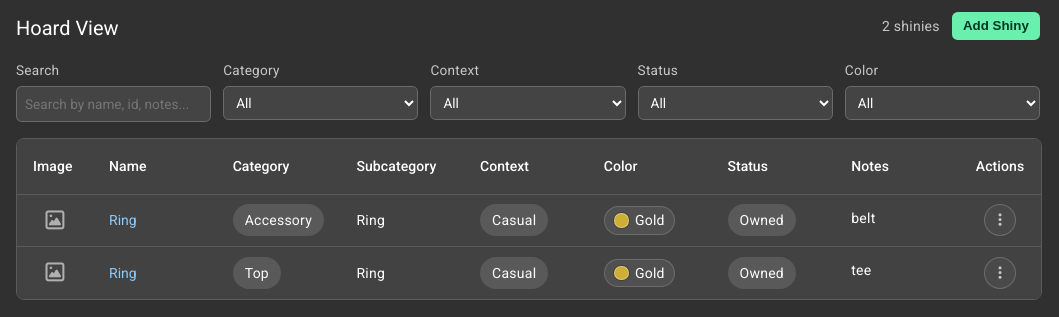
HoardViewComponent › filters rows by category
Select "Top" in the dropdown with id "category-filter" at {"x": 321, "y": 103}, box [223,86,418,120]
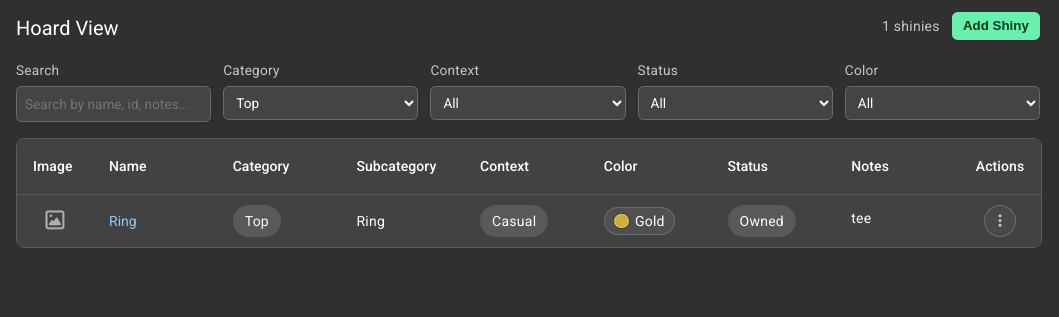
Expected: the text "tee" is shown, [851,208,871,228]
Expected: the text "belt" is gone
